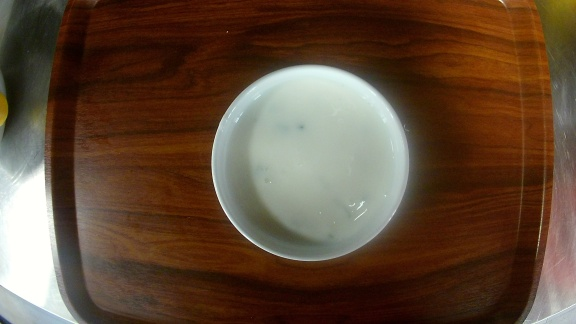cacik: (211, 64, 411, 262)
